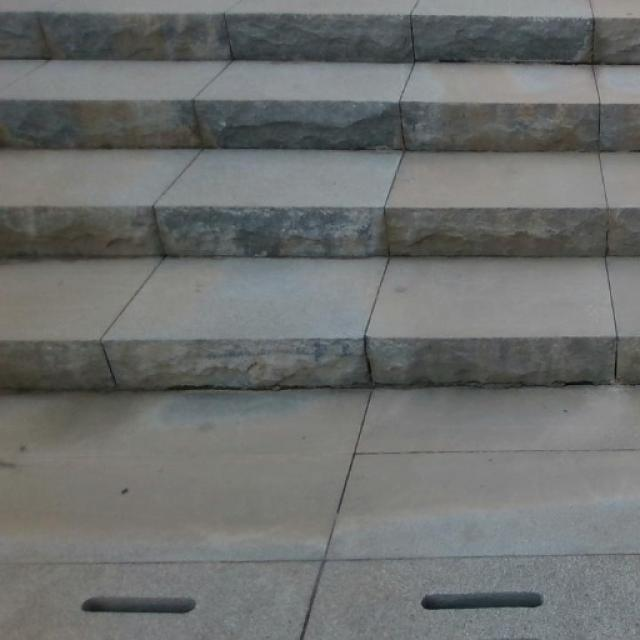Stairs: (0, 9, 639, 390)
